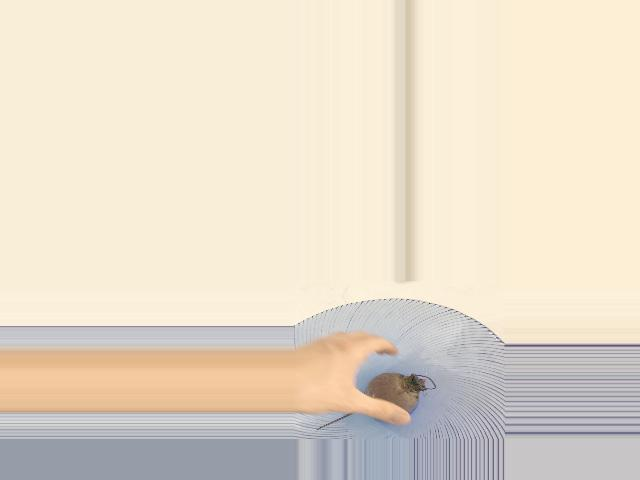beet: (317, 372, 436, 430)
